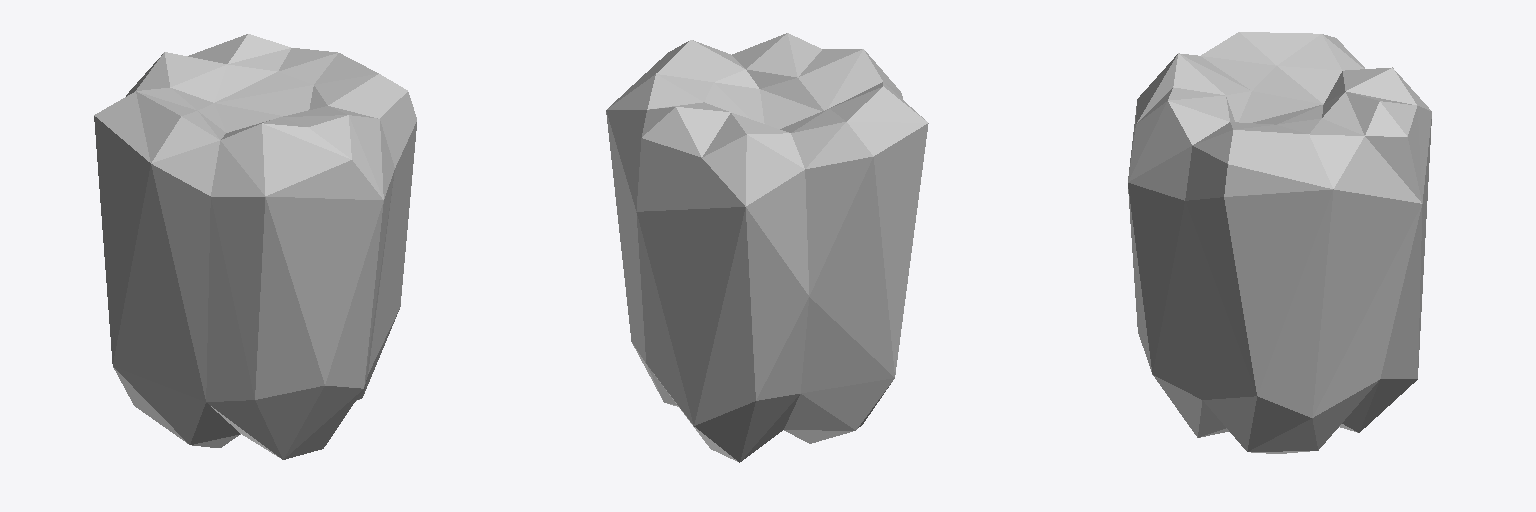
File: pepper8.obj
3 views of the same model, side by side, from view 1: azimuth 30°, elevation 25°; view 2: azimuth 150°, elevation 25°; view 3: azimuth 270°, elevation 25° (orthographic).
Visible parts, largest first — view 1: pepper.1; view 2: pepper.1; view 3: pepper.1.
Part boxes in pixels (bbox=[...]): pepper.1: bbox=[94, 34, 416, 459]; pepper.1: bbox=[606, 33, 928, 462]; pepper.1: bbox=[1128, 32, 1431, 453].
Bounding box in the file's own units: 9.04 × 11.55 × 8.81.